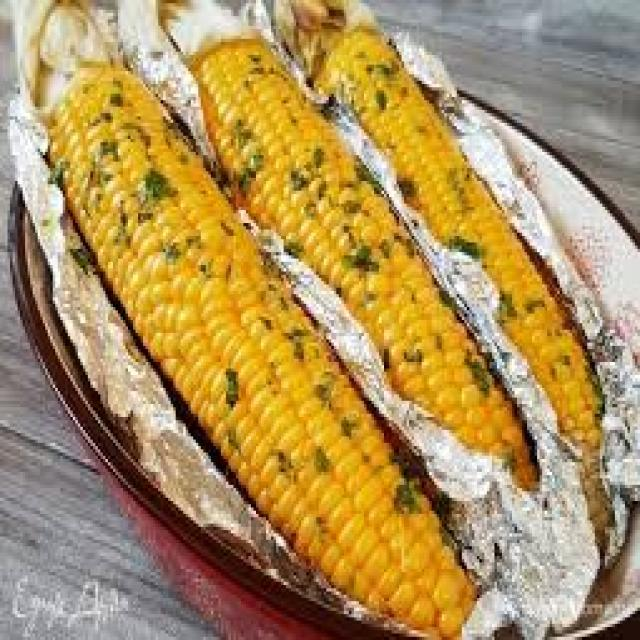corn: (48, 53, 486, 640), (198, 23, 546, 506), (318, 0, 626, 457)
